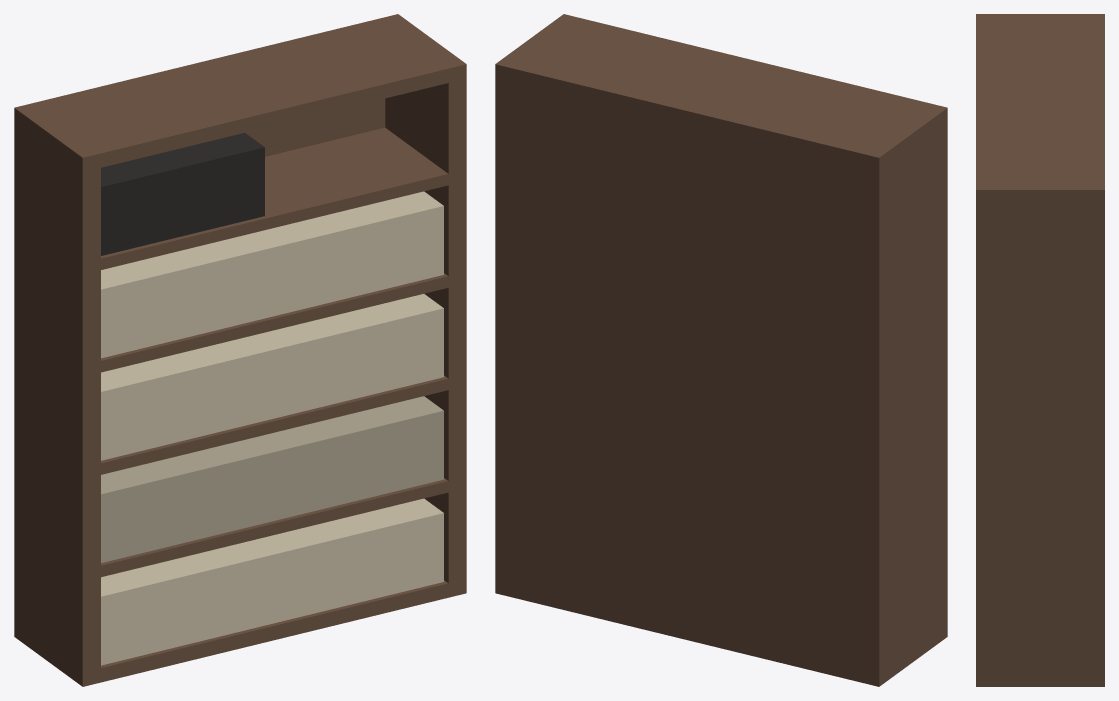
The model's file is cassette-storage-rack.glb.
The picture shows the model from 3 angles, left to right: view 1: azimuth 30°, elevation 25°; view 2: azimuth 150°, elevation 25°; view 3: azimuth 270°, elevation 25°; orthographic projection. The views are drawn at different scales.
Visible parts, largest first — view 1: wood, paper, plastic-light, plastic-dark; view 2: wood; view 3: wood.
Part boxes in pixels (x1,y1,x2,y2): wood: (14,14,466,686); paper: (101,191,443,665); plastic-light: (101,396,443,562); plastic-dark: (101,132,264,255); wood: (495,14,947,686); wood: (976,14,1104,686).
Size of the model in its own units: 0.42 by 0.553 by 0.13.
